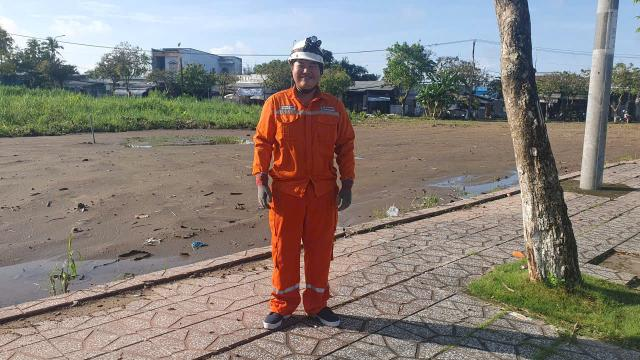gloves: (251, 170, 278, 214), (328, 174, 356, 212)
helmet: (284, 33, 334, 68)
shoes: (296, 300, 349, 332), (258, 300, 291, 332)
